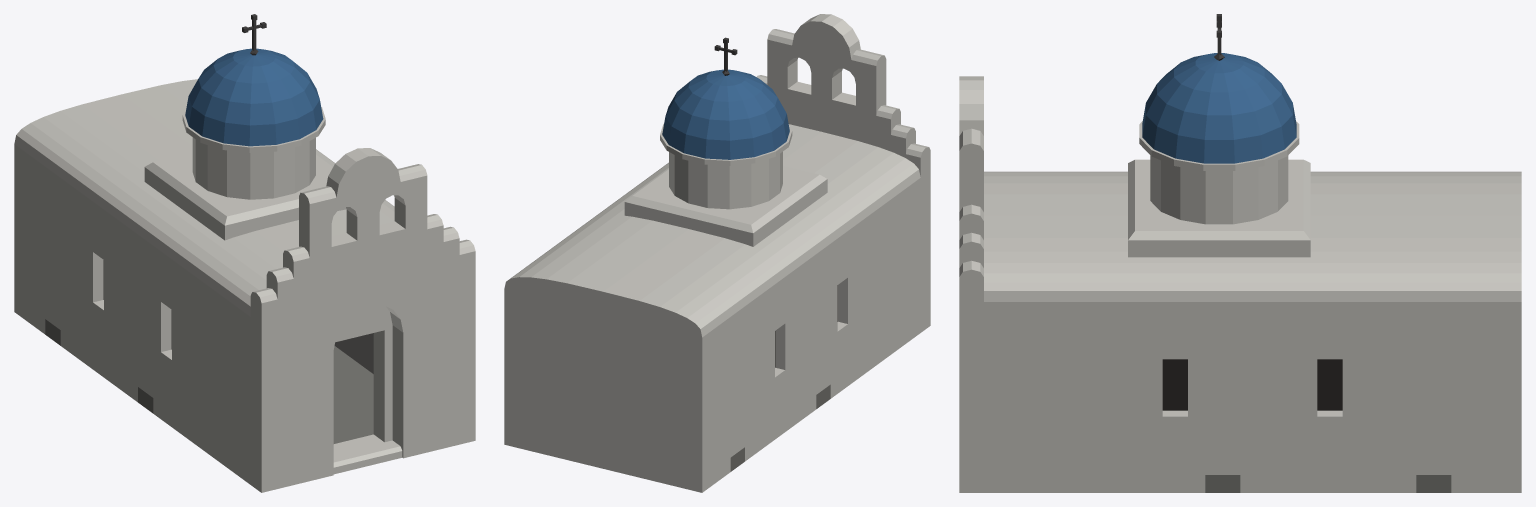
The model's file is blue-domed-chapel-297391.glb.
3 views of the same model, side by side, from view 1: azimuth 30°, elevation 25°; view 2: azimuth 150°, elevation 25°; view 3: azimuth 270°, elevation 25° (orthographic). The views are drawn at different scales.
Parts seen in each view (by area): view 1: chapel-body; view 2: chapel-body; view 3: chapel-body.
Boxes of the visible parts, x1=… form: chapel-body: x1=14, y1=14, x2=475, y2=492; chapel-body: x1=504, y1=14, x2=930, y2=492; chapel-body: x1=959, y1=14, x2=1521, y2=492.
Size of the model in its own units: 4 by 6.57 by 8.
